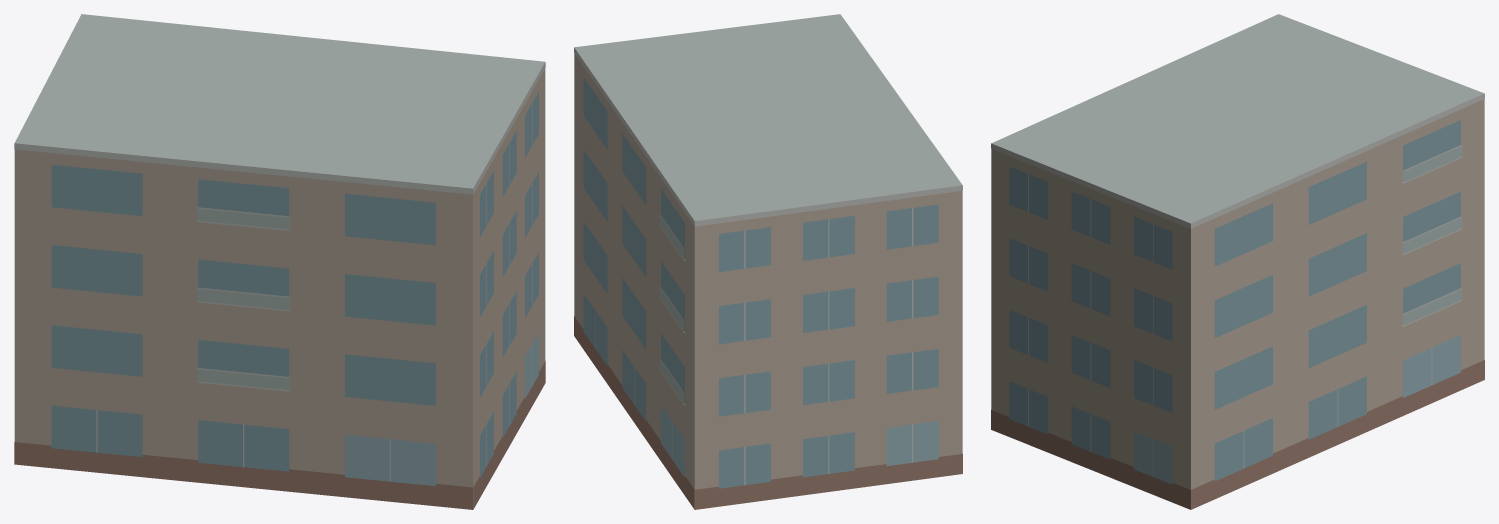
File: survey-upis-32743072.glb
The picture shows the model from 3 angles, left to right: view 1: azimuth 30°, elevation 25°; view 2: azimuth 150°, elevation 25°; view 3: azimuth 270°, elevation 25°; orthographic projection. The views are drawn at different scales.
Parts seen in each view (by area): view 1: survey-upis-32743072.tmp; view 2: survey-upis-32743072.tmp; view 3: survey-upis-32743072.tmp.
Part boxes in pixels (x1=…): survey-upis-32743072.tmp: x1=14, y1=14, x2=545, y2=509; survey-upis-32743072.tmp: x1=574, y1=14, x2=962, y2=509; survey-upis-32743072.tmp: x1=991, y1=14, x2=1484, y2=509.
Size of the model in its own units: 20.25 by 12.9 by 20.16.
